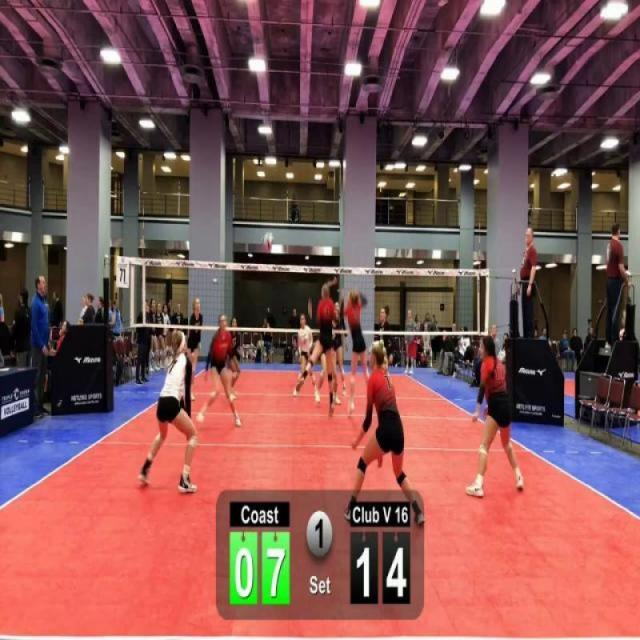volleyball: (260, 230, 276, 254)
